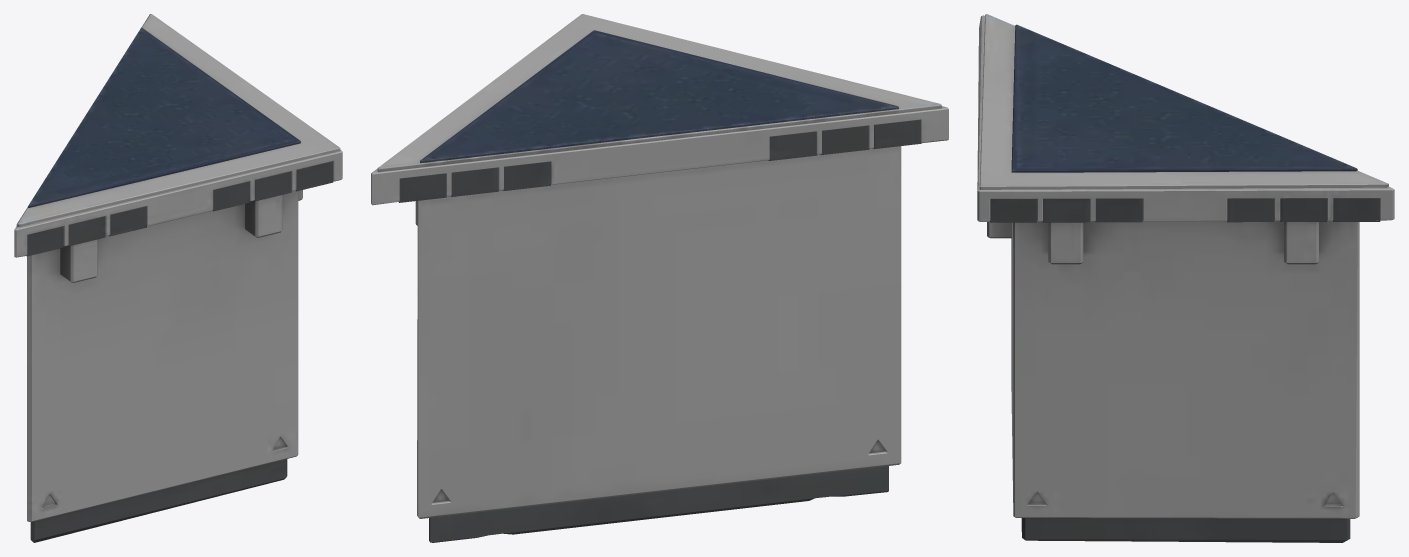
File: SM_FloorTryangle_SF_9bb215.glb
The picture shows the model from 3 angles, left to right: view 1: azimuth 30°, elevation 25°; view 2: azimuth 150°, elevation 25°; view 3: azimuth 270°, elevation 25°; orthographic projection. The views are drawn at different scales.
Size of the model in its own units: 4.03 by 4.01 by 4.03.
Materials: 1 (1 with a texture image).
